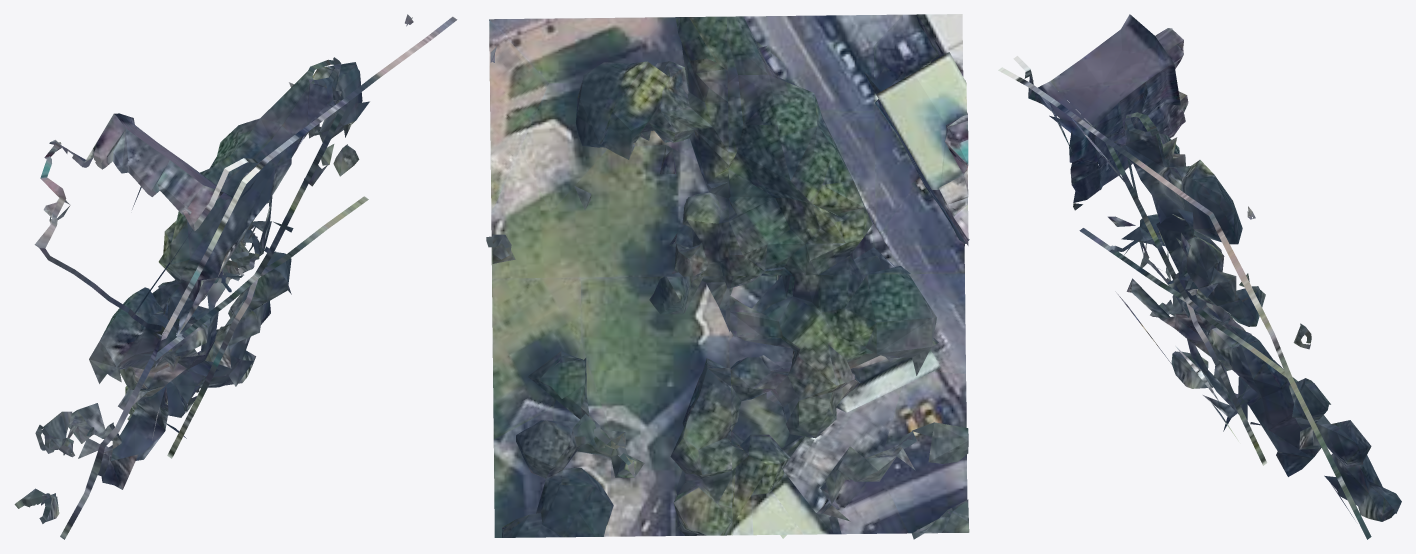
3 renders of one model, left to right at view 1: azimuth 30°, elevation 25°; view 2: azimuth 150°, elevation 25°; view 3: azimuth 270°, elevation 25°, orthographic. The views are drawn at different scales.
Size of the model in its own units: 80.77 by 74.68 by 69.34.
Materials: 1 (1 with a texture image).
